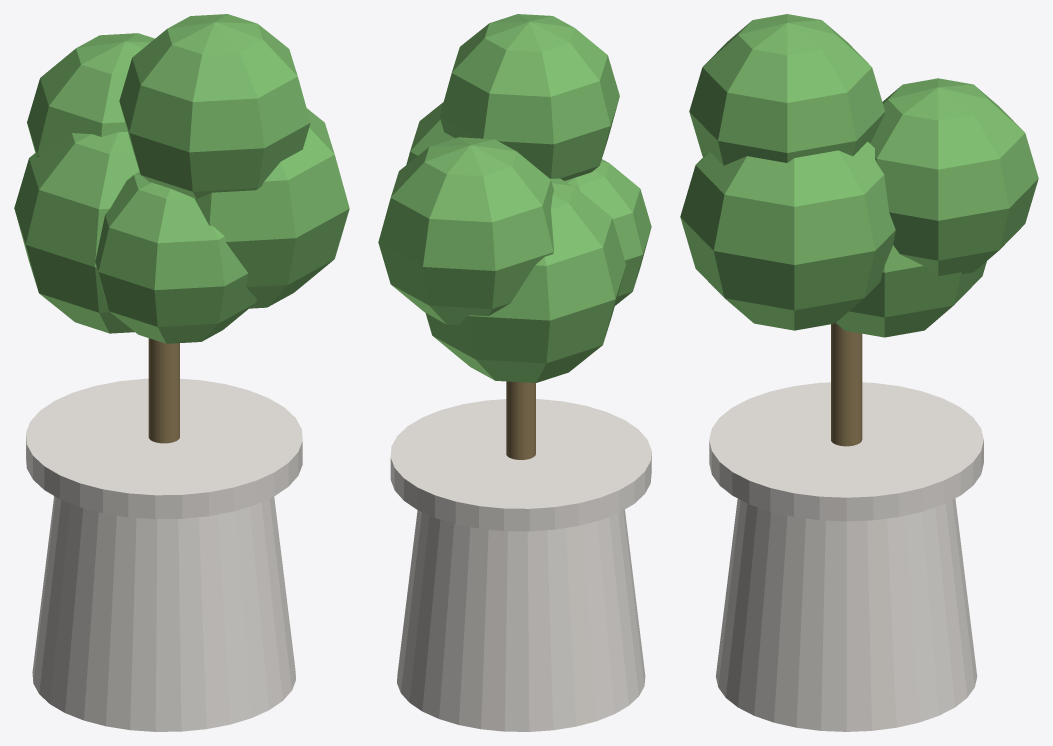
File: plantsmall.glb
3 renders of one model, left to right at view 1: azimuth 30°, elevation 25°; view 2: azimuth 150°, elevation 25°; view 3: azimuth 270°, elevation 25°, orthographic. The views are drawn at different scales.
Visible parts, largest first — view 1: PlantSmall; view 2: PlantSmall; view 3: PlantSmall.
Part boxes in pixels (x1,y1,x2,y2): PlantSmall: (14, 14, 349, 731); PlantSmall: (378, 14, 651, 731); PlantSmall: (680, 14, 1038, 731).
Size of the model in its own units: 0.234 by 0.5603 by 0.2742.
